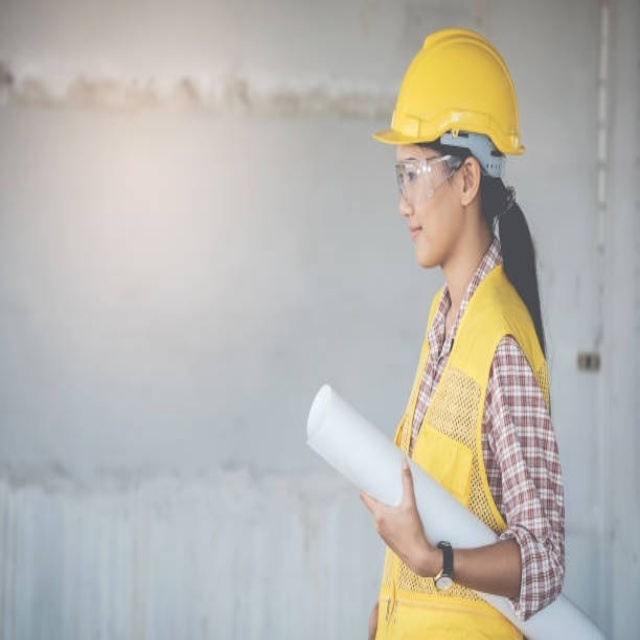Gafas: (394, 154, 465, 203)
Sin_guantes: (357, 453, 434, 571)
Sin_mascara: (405, 215, 439, 265)
